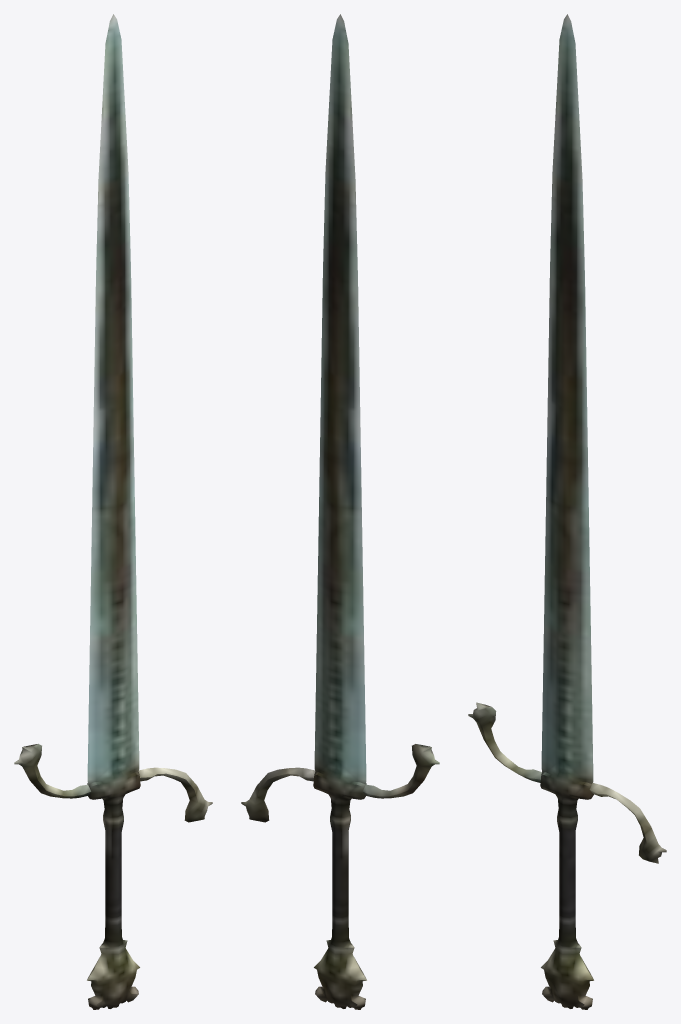
File: weapon-summer-s-sting.glb
3 views of the same model, side by side, from view 1: azimuth 30°, elevation 25°; view 2: azimuth 150°, elevation 25°; view 3: azimuth 330°, elevation 25° (orthographic).
Visible parts, largest first — view 1: greatSwordG_MDL_q; view 2: greatSwordG_MDL_q; view 3: greatSwordG_MDL_q.
Part boxes in pixels (x1=…): greatSwordG_MDL_q: x1=14, y1=14, x2=212, y2=1009; greatSwordG_MDL_q: x1=241, y1=14, x2=439, y2=1009; greatSwordG_MDL_q: x1=468, y1=14, x2=666, y2=1009.
Size of the model in its own units: 0.5889 by 2.82 by 0.0659.
1 material, 1 textured.
